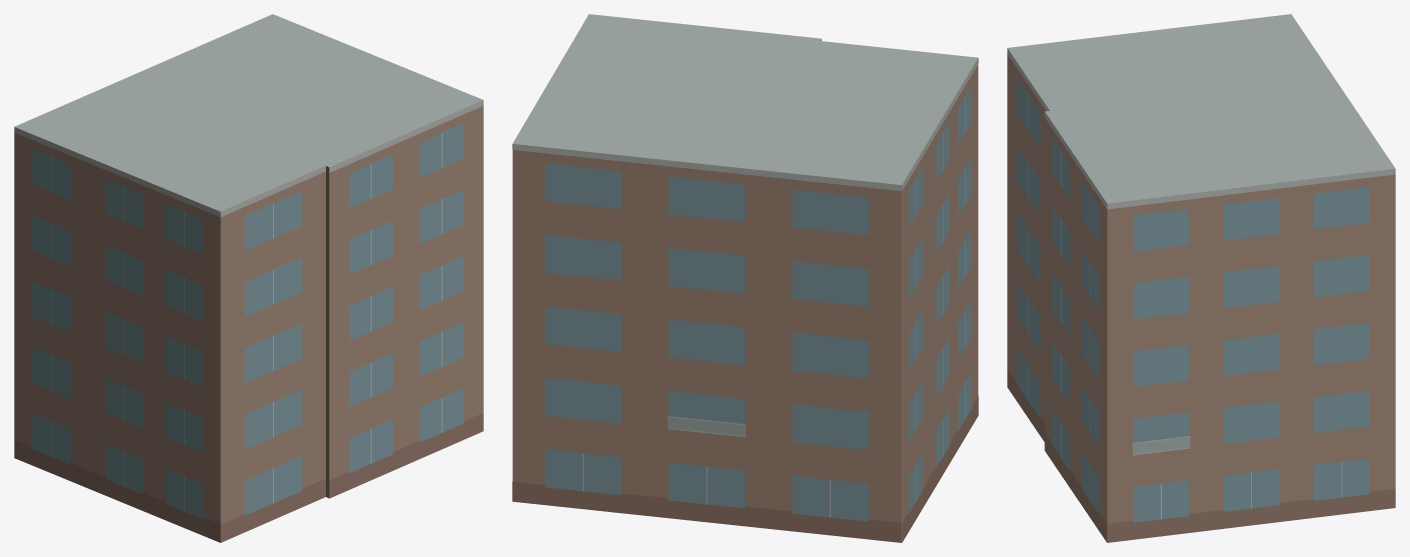
The model's file is survey-upis-32922678.glb.
3 renders of one model, left to right at view 1: azimuth 30°, elevation 25°; view 2: azimuth 150°, elevation 25°; view 3: azimuth 270°, elevation 25°, orthographic. The views are drawn at different scales.
Parts seen in each view (by area): view 1: survey-upis-32922678.tmp; view 2: survey-upis-32922678.tmp; view 3: survey-upis-32922678.tmp.
Part boxes in pixels (bbox=[...]): survey-upis-32922678.tmp: bbox=[14, 14, 483, 542]; survey-upis-32922678.tmp: bbox=[512, 14, 978, 542]; survey-upis-32922678.tmp: bbox=[1007, 14, 1395, 542].
Bounding box in the file's own units: 17.28 × 14.4 × 14.95.
